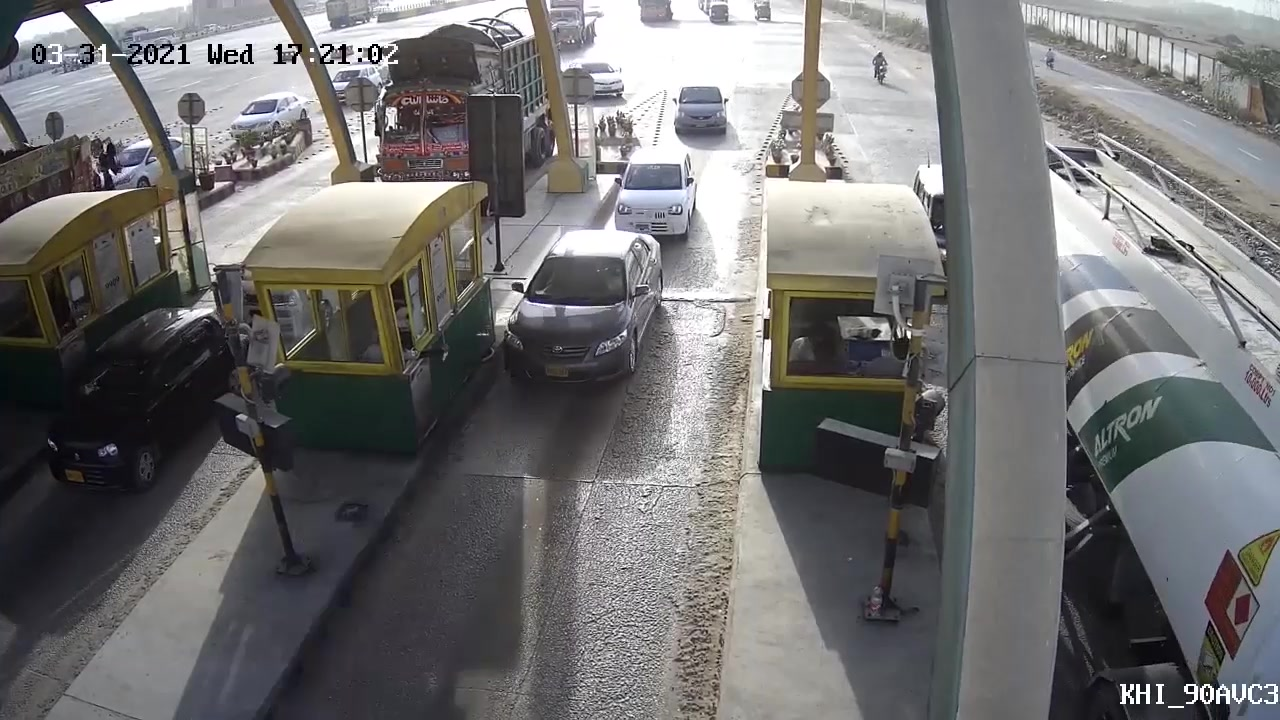F1: (487, 220, 666, 399)
